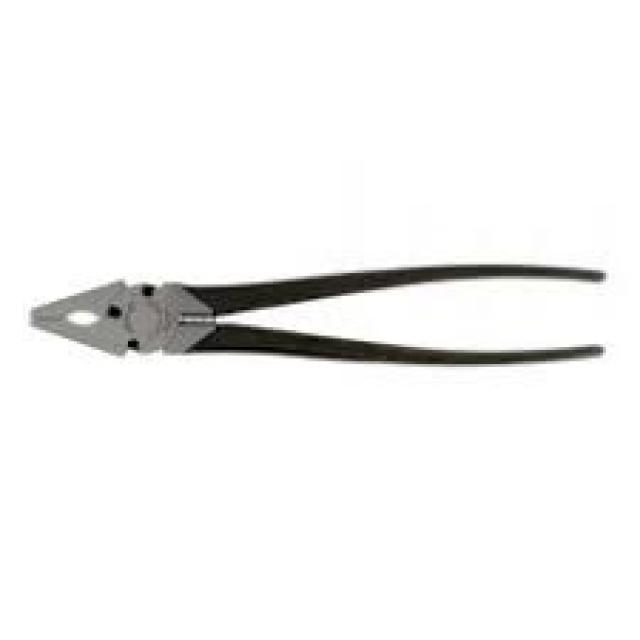pliers: (25, 258, 609, 390)
